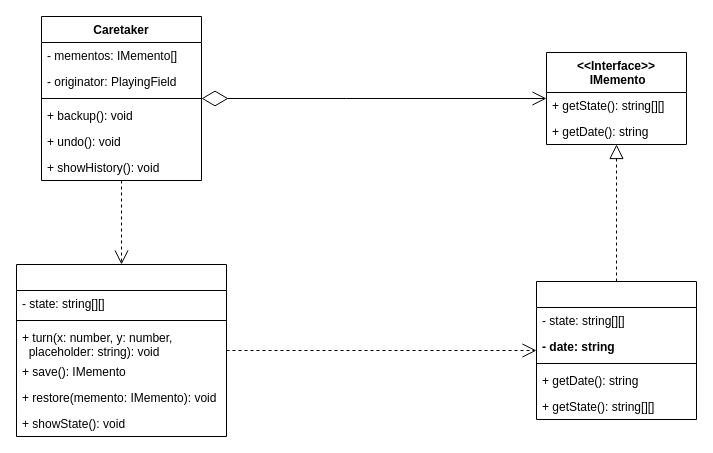
Some shapes in this 713 by 453 pixel diagram are drawn without their labels. The box of each missing label's shape, as (x1, y1, x2, y2) in pixels:
ConcreteMemento: (536, 280, 696, 420)
PlayingField: (16, 264, 226, 436)
